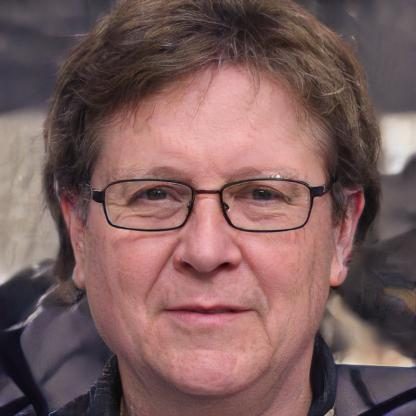glasses: (88, 176, 328, 240)
